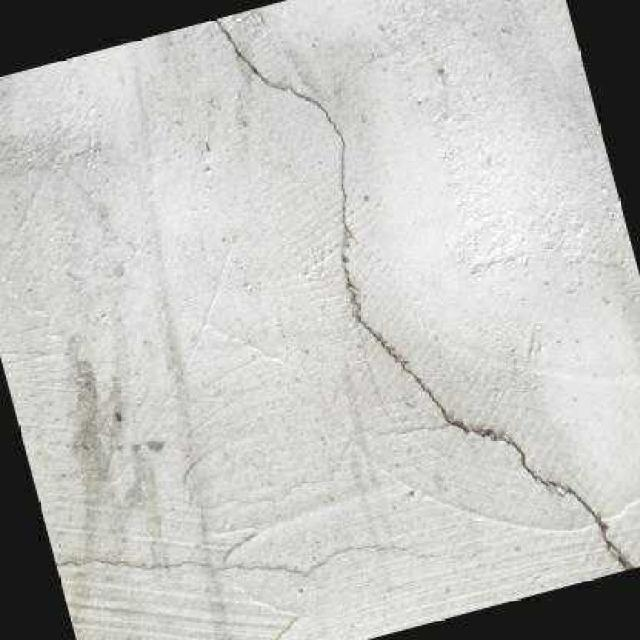D00: (203, 15, 634, 571)
